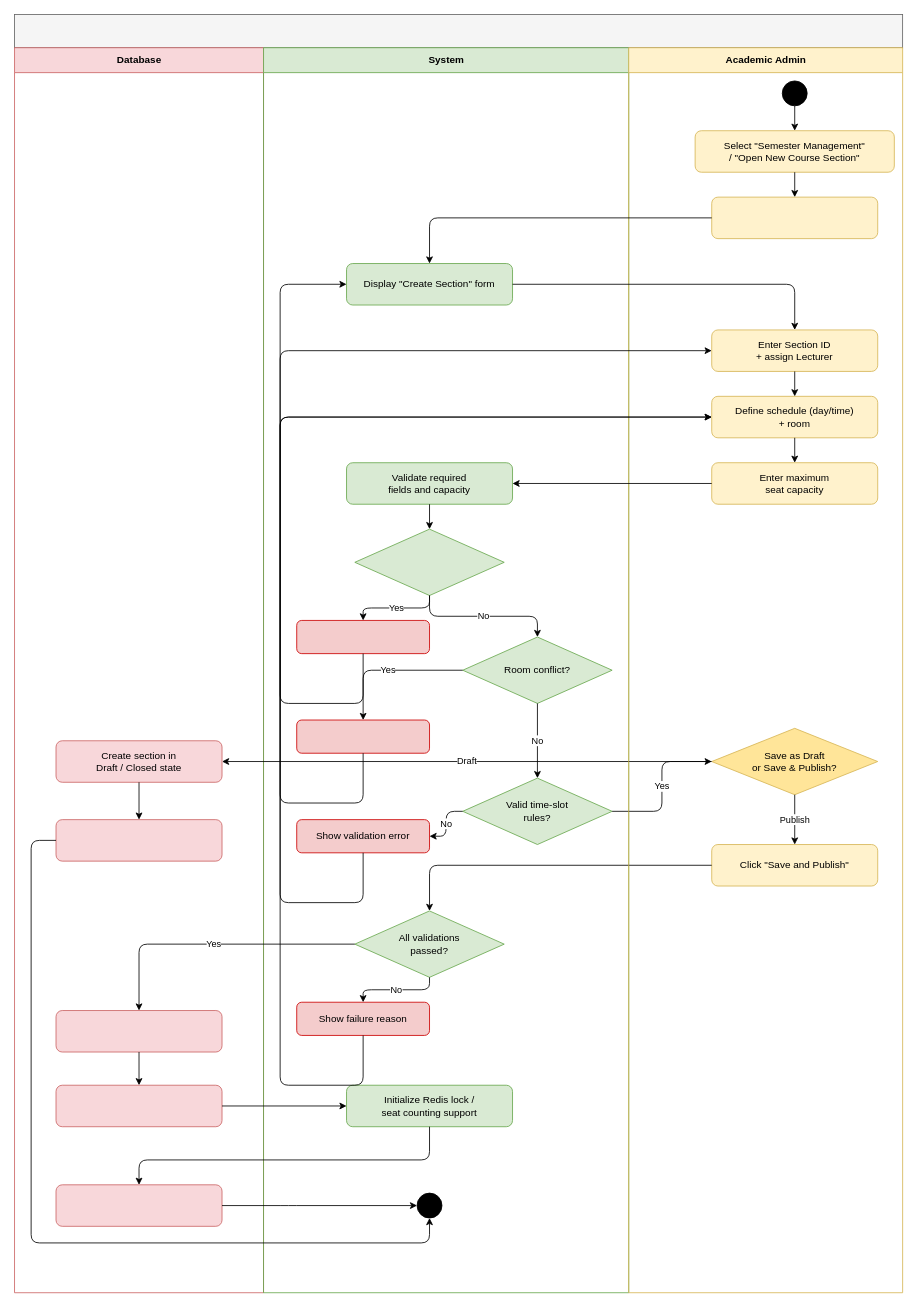
Some shapes in this 917 by 1307 pixel diagram are drawn without their labels. Here are the shapes that lost their labels. From the top down, the centre of each, then its label:
(458,31): UC-10 Open Course Sections
(794,217): Select target Semester and Subject
(429,562): Lecturer schedule conflict?
(363,637): Show "Instructor conflict"
(363,736): Show "Room conflict"
(138,840): Record audit entry
(138,1031): Save section record
(138,1105): Set section status = Open / Published
(138,1205): Record audit log for create/open action
